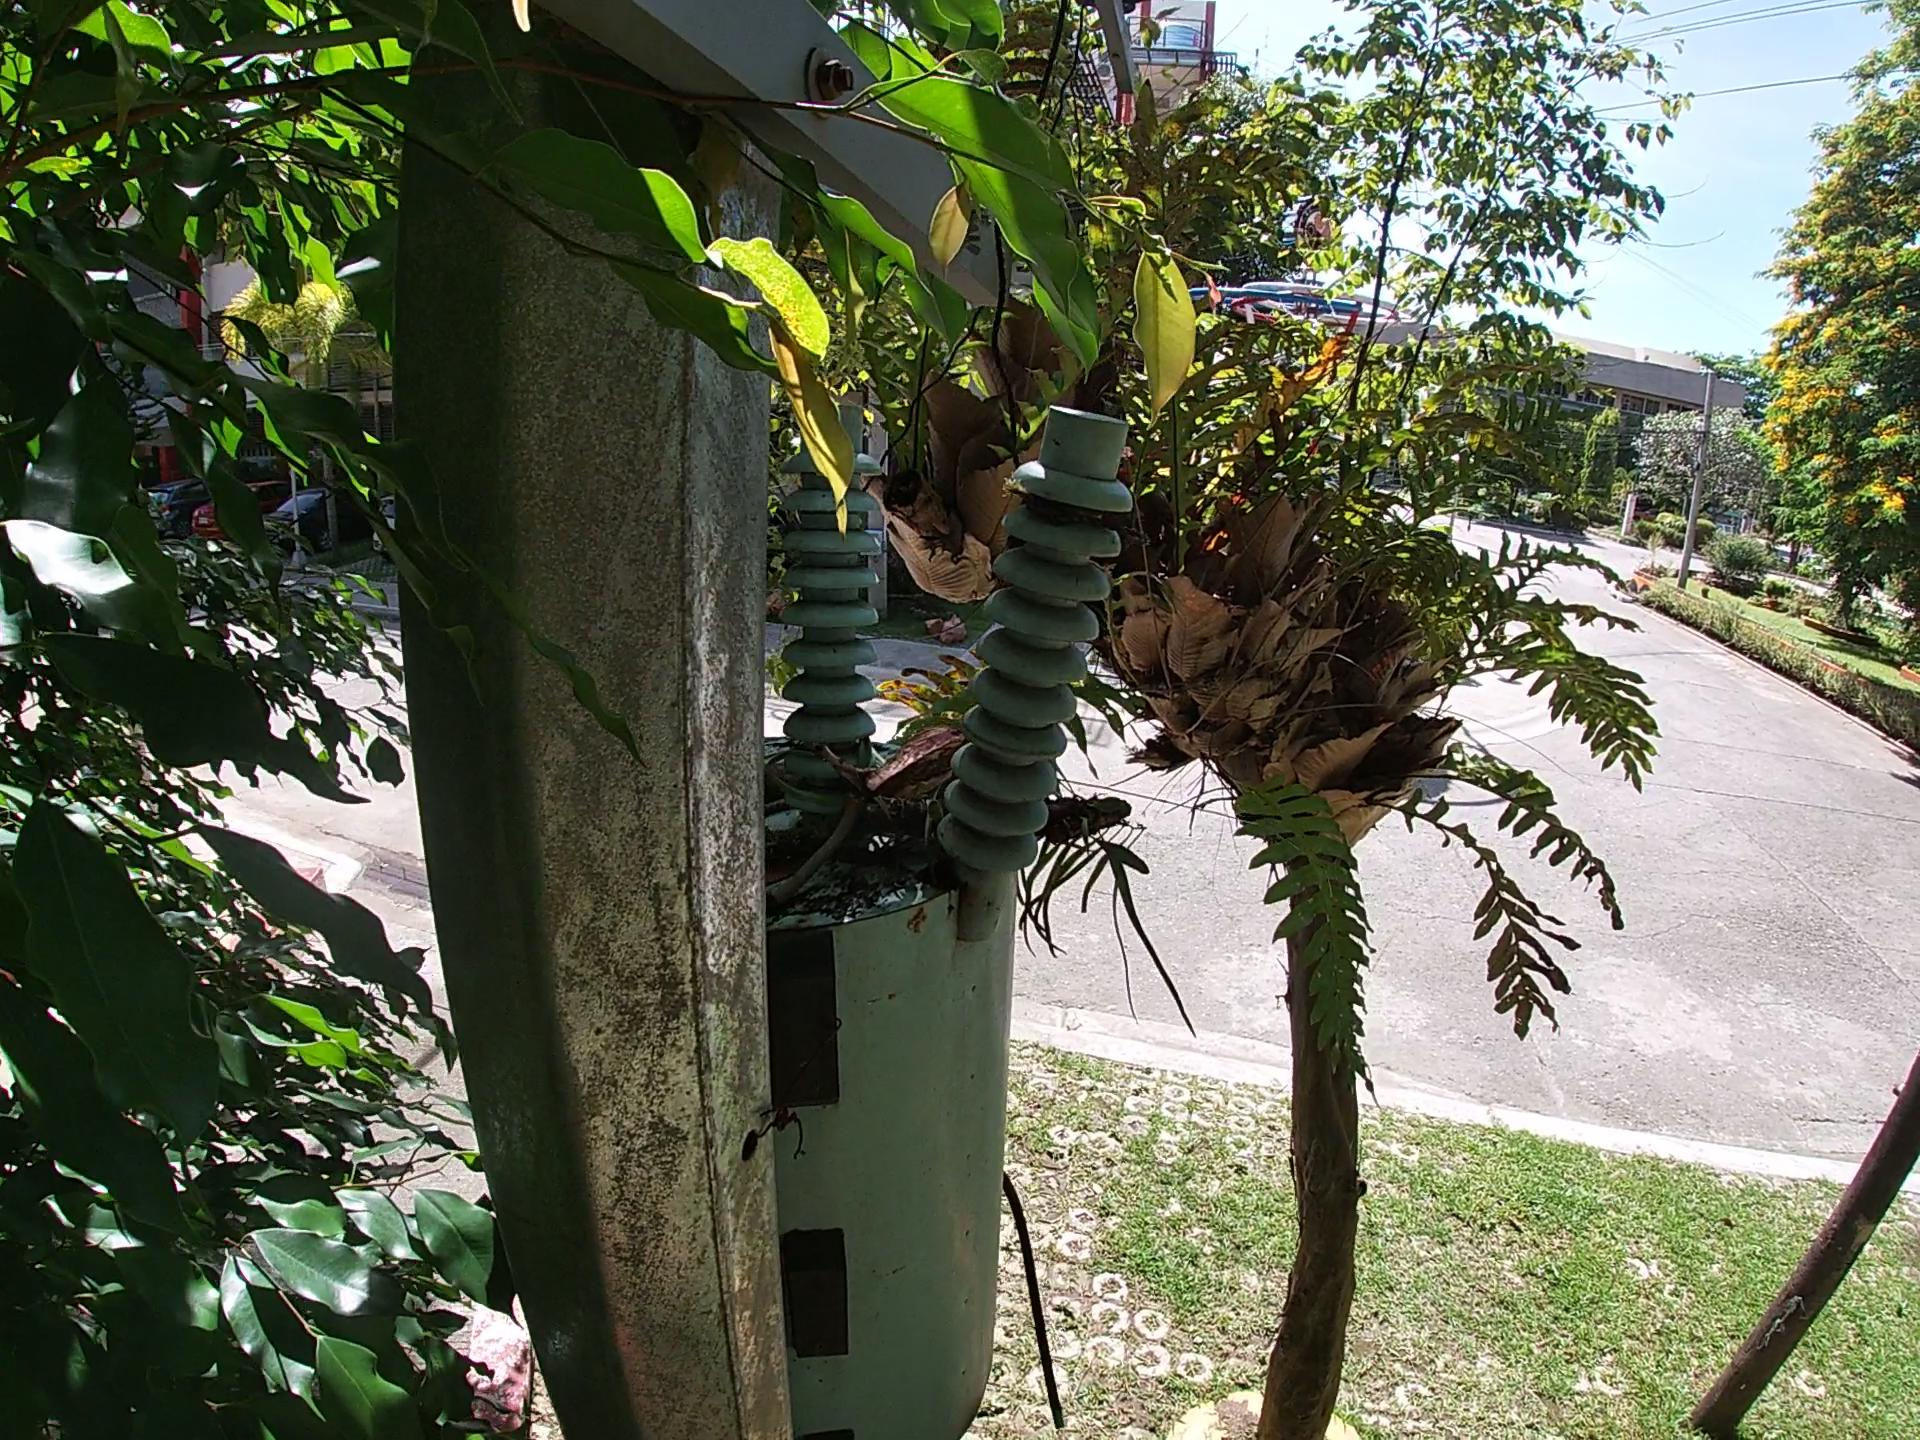branch with leaves: (844, 715, 1231, 897)
mahogany fruit: (765, 744, 963, 871)
tree branch: (763, 740, 992, 986)
